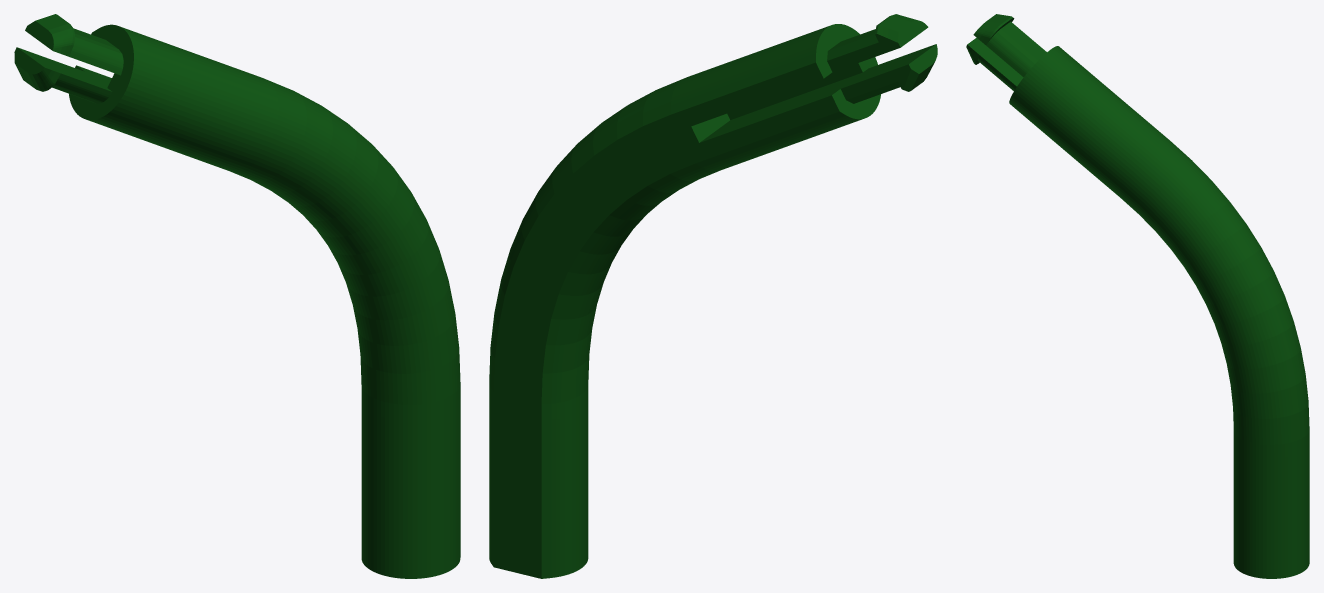
The model's file is stem_1A_60L.glb.
The picture shows the model from 3 angles, left to right: view 1: azimuth 30°, elevation 25°; view 2: azimuth 150°, elevation 25°; view 3: azimuth 330°, elevation 25°; orthographic projection. The views are drawn at different scales.
Parts seen in each view (by area): view 1: stem_1A_60L; view 2: stem_1A_60L; view 3: stem_1A_60L.
Part boxes in pixels (x1,y1,x2,y2): stem_1A_60L: (14, 14, 460, 578); stem_1A_60L: (489, 14, 937, 578); stem_1A_60L: (966, 14, 1309, 578).
Bounding box in the file's own units: 0.0362 × 0.05 × 0.00666.
